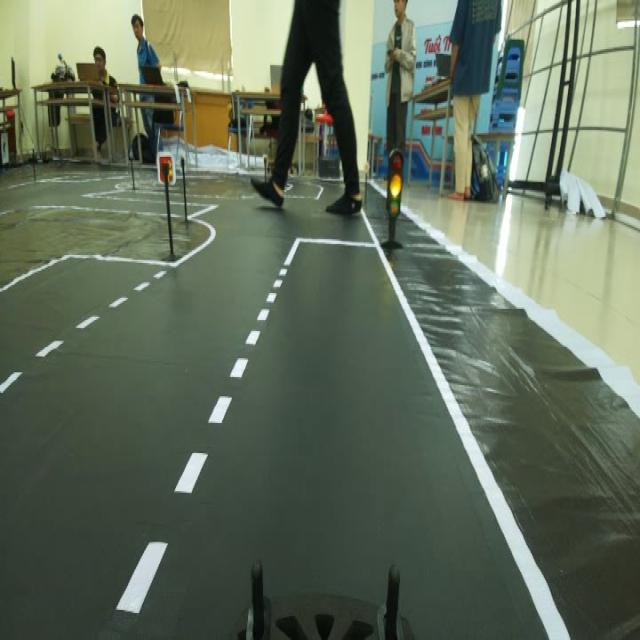trafficlight: (373, 142, 408, 257)
